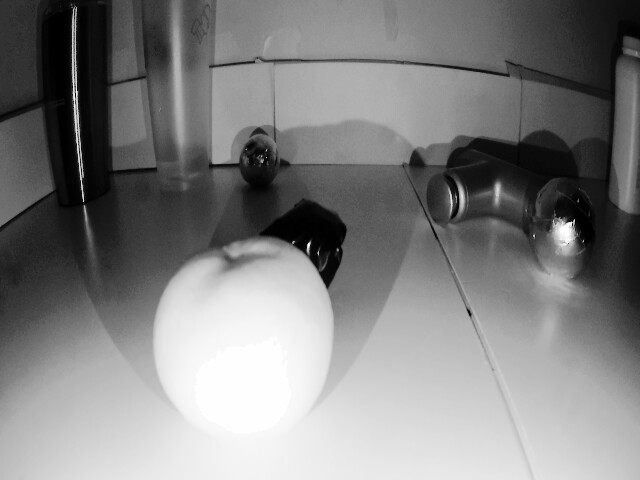black: (269, 200, 349, 298)
silver: (527, 174, 596, 284), (235, 128, 278, 184)
